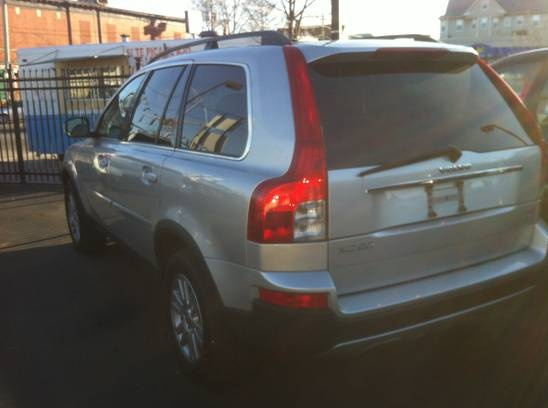volvo: (31, 35, 548, 386)
